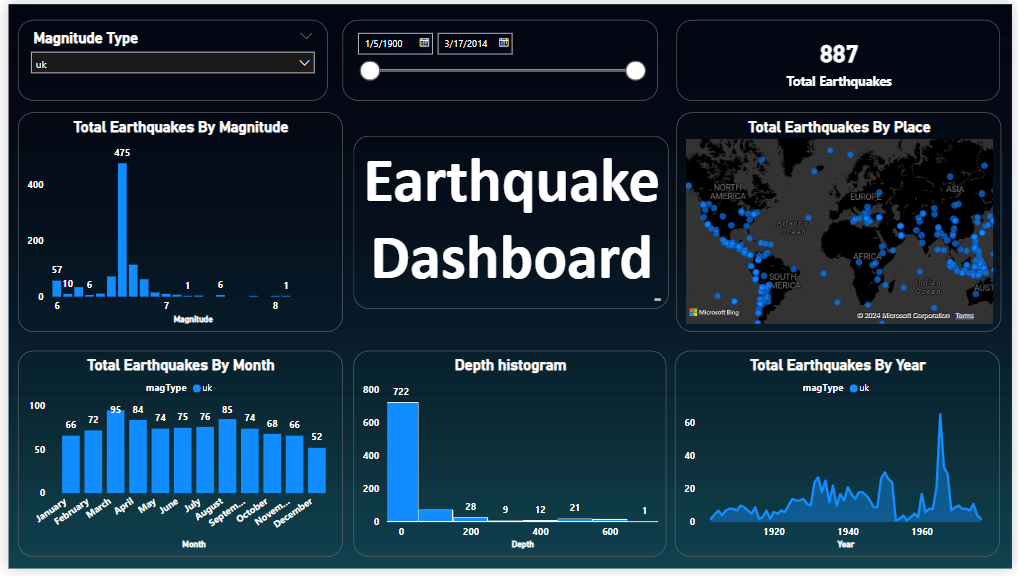

The page's visual inventory and layout, read from the dashboard file:
{"tool":"powerbi","page":{"name":"Page 1","canvas":[1280,720],"ordinal":0},"visuals":[{"type":"slicer","fields":{"Values":["query.magType"]},"box":[12.3,19.2,395.2,102.9],"z":0},{"type":"slicer","fields":{"Values":["query.Date"]},"box":[426.8,19.2,402.1,102.9],"z":1000},{"type":"card","fields":{"Values":["CountNonNull(query.id)"]},"box":[852.1,19.2,413,102.9],"z":2000},{"type":"columnChart","title":"Total Earthquakes By Month","fields":{"Category":["query.Date.Variation.Date Hierarchy.Month"],"Y":["CountNonNull(query.id)"],"Series":["query.magType"]},"box":[12.3,441.9,414.4,263.5],"z":3000},{"type":"clusteredColumnChart","title":"Total Earthquakes By Magnitude","fields":{"Category":["query.mag"],"Y":["CountNonNull(query.id)"]},"box":[12.3,138.6,414.4,279.9],"z":4000},{"type":"stackedAreaChart","title":"Total Earthquakes By Year","fields":{"Category":["query.Date.Variation.Date Hierarchy.Year"],"Y":["CountNonNull(query.id)"],"Series":["query.magType"]},"box":[850.8,441.9,414.4,263.5],"z":5000},{"type":"clusteredColumnChart","title":"Depth histogram","fields":{"Y":["CountNonNull(query.id)"],"Category":["query.depth (bins)"]},"box":[440.5,441.9,399.3,263.5],"z":6000},{"type":"map","title":"Total Earthquakes By Place","fields":{"Category":["query.place"]},"box":[852.1,138.6,414.4,279.9],"z":7000},{"type":"textbox","title":"Earthquake Dashboard","box":[440.5,168.8,402.1,220.9],"z":8000}]}

Visuals, with their boxes in screenshot pixels (x1, y1, x2, y2), scaled from the page's 1280x720 canvas onto the 1018x576 screenshot:
slicer - query.magType: pyautogui.locateOnScreen(10, 15, 324, 98)
slicer - query.Date: pyautogui.locateOnScreen(339, 15, 659, 98)
card - CountNonNull(query.id): pyautogui.locateOnScreen(678, 15, 1006, 98)
"Total Earthquakes By Month" columnChart: pyautogui.locateOnScreen(10, 354, 339, 564)
"Total Earthquakes By Magnitude" clusteredColumnChart: pyautogui.locateOnScreen(10, 111, 339, 335)
"Total Earthquakes By Year" stackedAreaChart: pyautogui.locateOnScreen(677, 354, 1006, 564)
"Depth histogram" clusteredColumnChart: pyautogui.locateOnScreen(350, 354, 668, 564)
"Total Earthquakes By Place" map: pyautogui.locateOnScreen(678, 111, 1007, 335)
"Earthquake Dashboard" textbox: pyautogui.locateOnScreen(350, 135, 670, 312)
